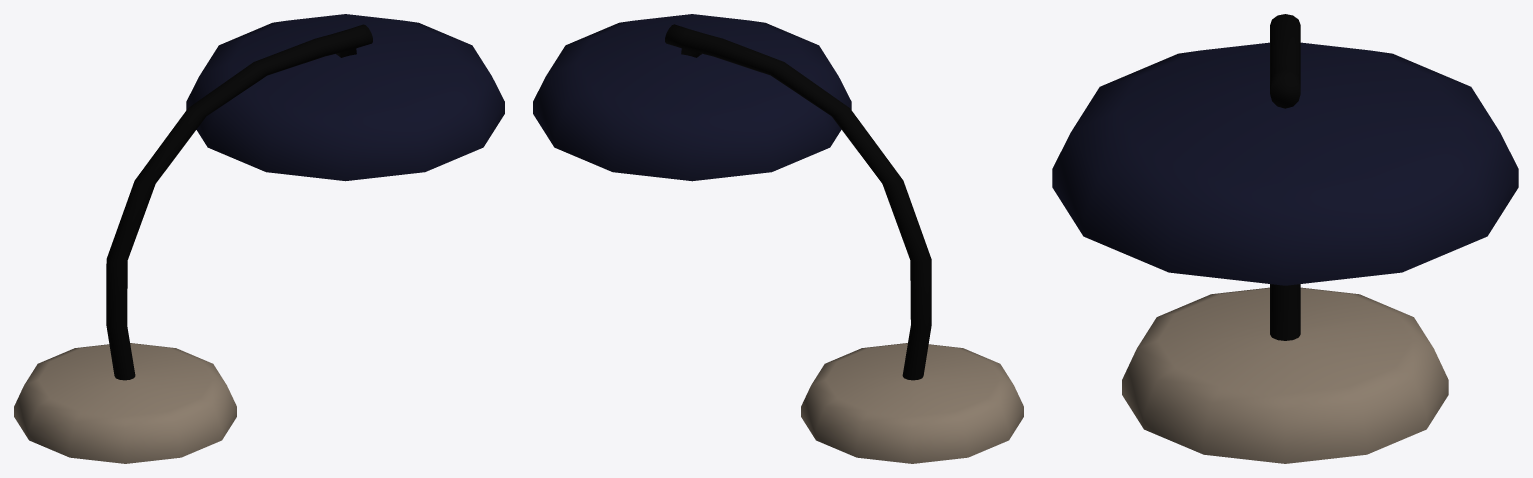
The model's file is Mesh_Lampe_03.fbx.
The picture shows the model from 3 angles, left to right: view 1: azimuth 30°, elevation 25°; view 2: azimuth 150°, elevation 25°; view 3: azimuth 270°, elevation 25°; orthographic projection. The views are drawn at different scales.
Parts seen in each view (by area): view 1: Mesh_Lampe_03; view 2: Mesh_Lampe_03; view 3: Mesh_Lampe_03.
Part boxes in pixels (x1,y1,x2,y2): Mesh_Lampe_03: [14, 14, 504, 463]; Mesh_Lampe_03: [533, 14, 1023, 463]; Mesh_Lampe_03: [1052, 14, 1518, 463].
Size of the model in its own units: 28.14 by 19.7 by 17.08.
